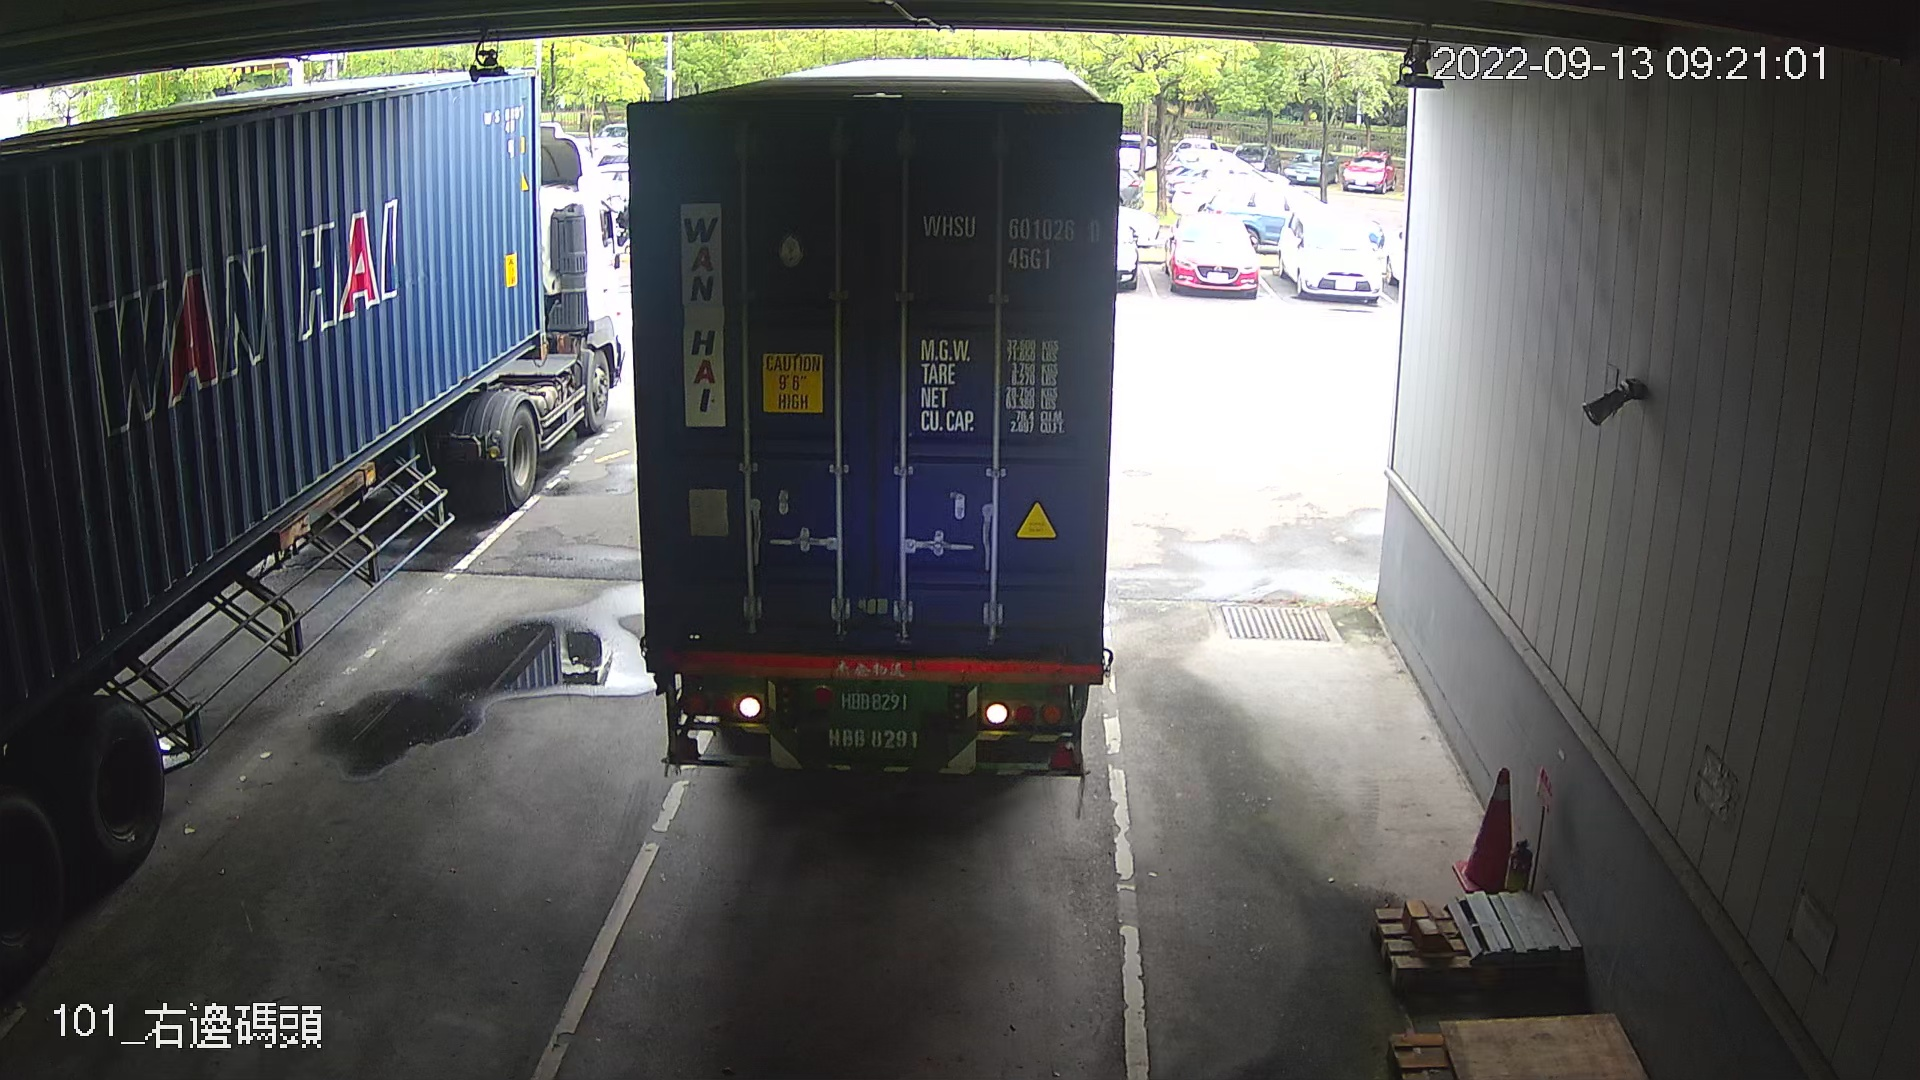container: (916, 200, 1104, 282)
